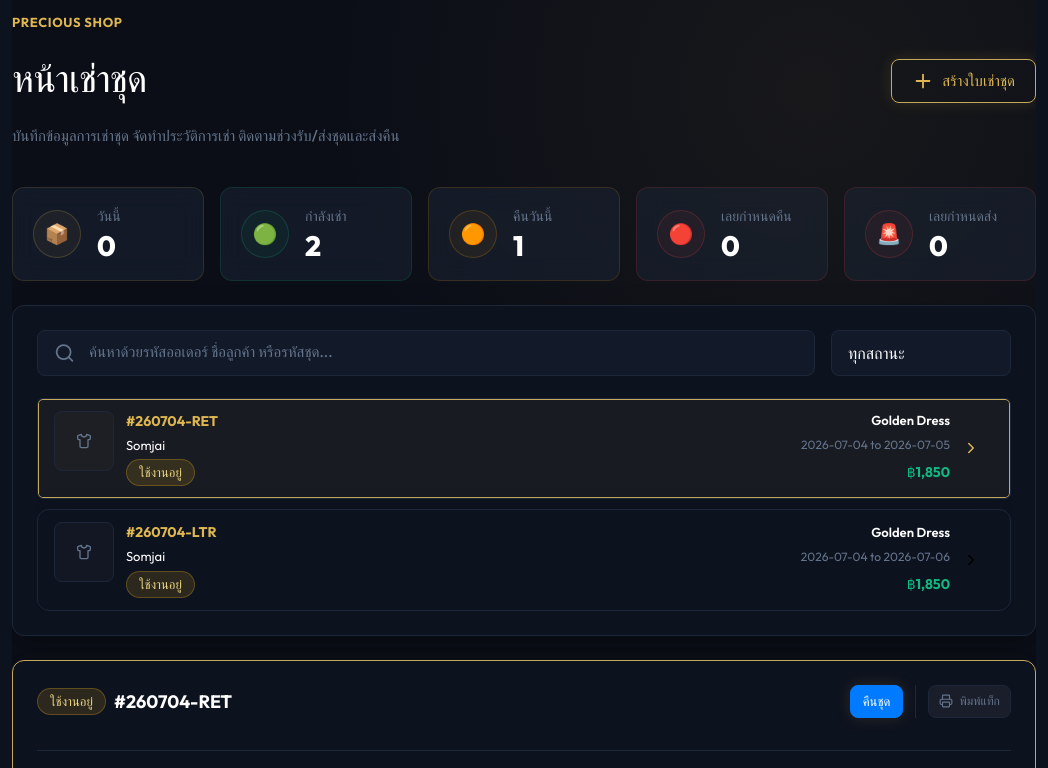
Test: RentalsPage › filters the list to rentals returning today when the return KPI is clicked
Click the text "คืนวันนี้" at (524, 234), box [428,187,620,280]
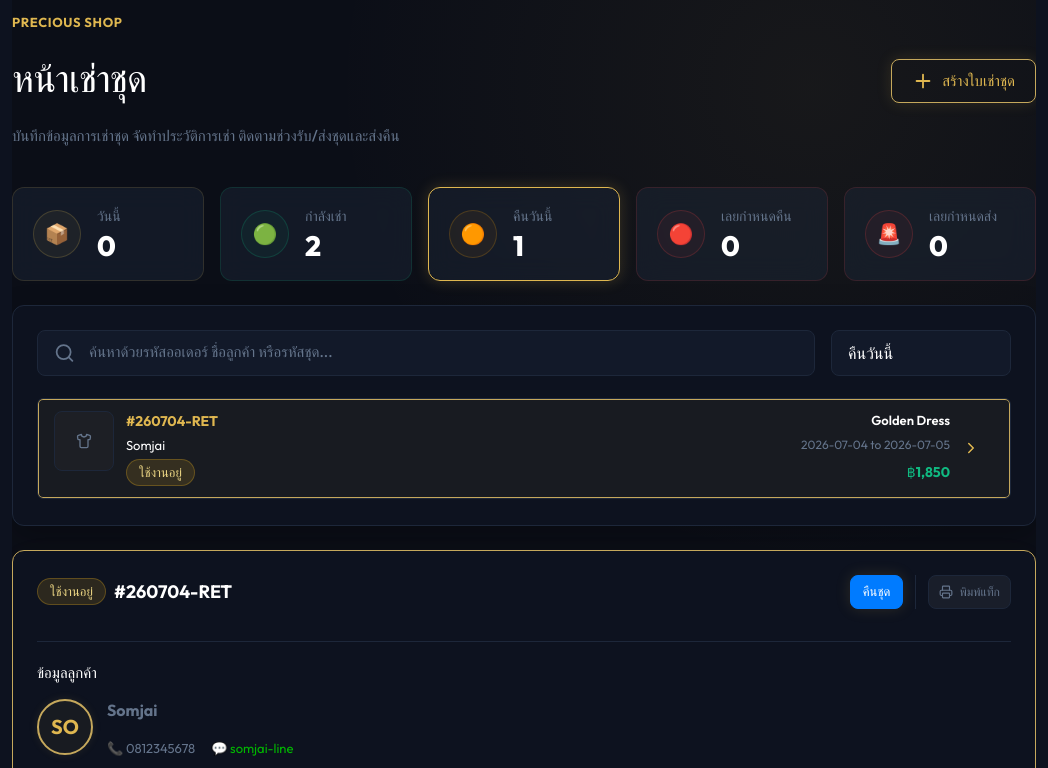
expect the row "#260704-RET" is shown: met, box [37,398,1011,499]
expect the row "#260704-LTR" is gone: met
